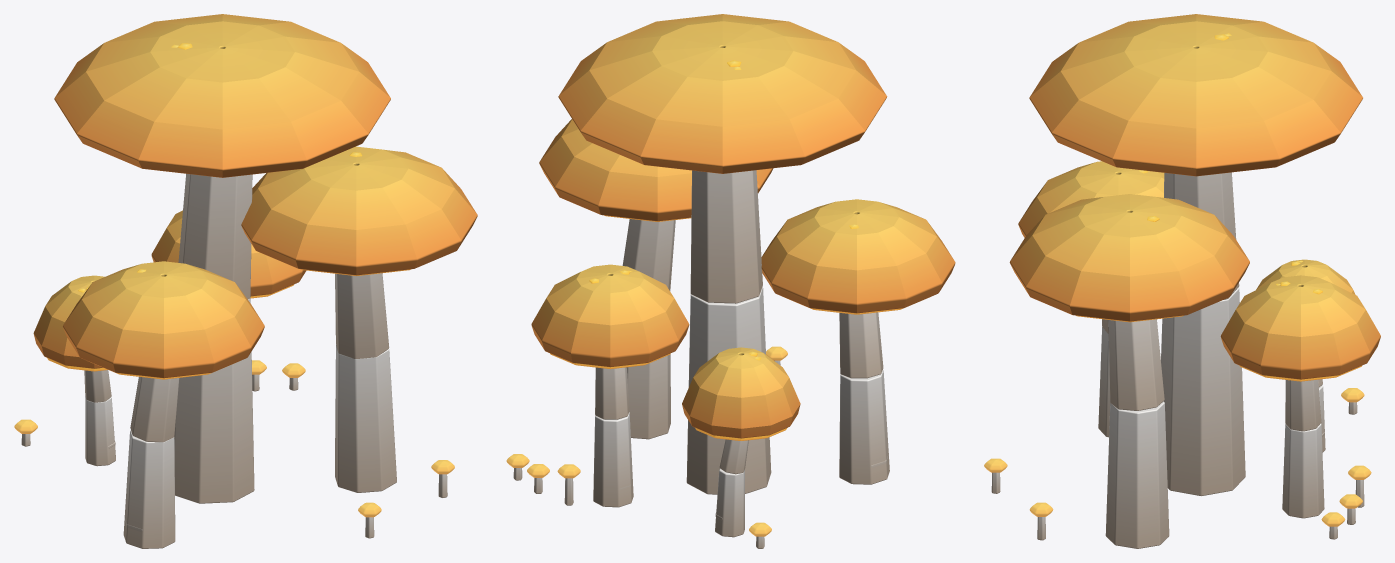
The model's file is giant_fungus.glb.
3 views of the same model, side by side, from view 1: azimuth 30°, elevation 25°; view 2: azimuth 150°, elevation 25°; view 3: azimuth 270°, elevation 25° (orthographic). The views are drawn at different scales.
Visible parts, largest first — view 1: giant_fungus; view 2: giant_fungus; view 3: giant_fungus.
Boxes of the visible parts, x1,y1,x2,y2 form: giant_fungus: (14, 14, 477, 548); giant_fungus: (506, 14, 955, 548); giant_fungus: (984, 14, 1380, 548).
Bounding box in the file's own units: 3.51 × 3.77 × 3.11.
Materials: 4 (4 with a texture image).
